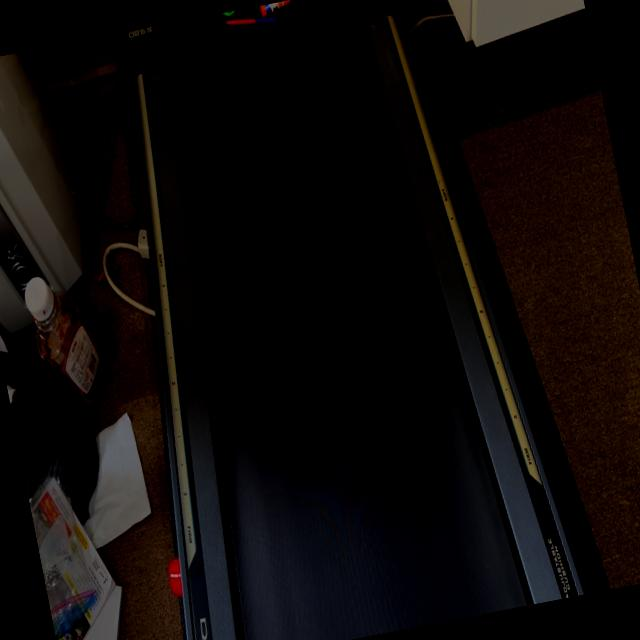Trash: (220, 0, 298, 38)
